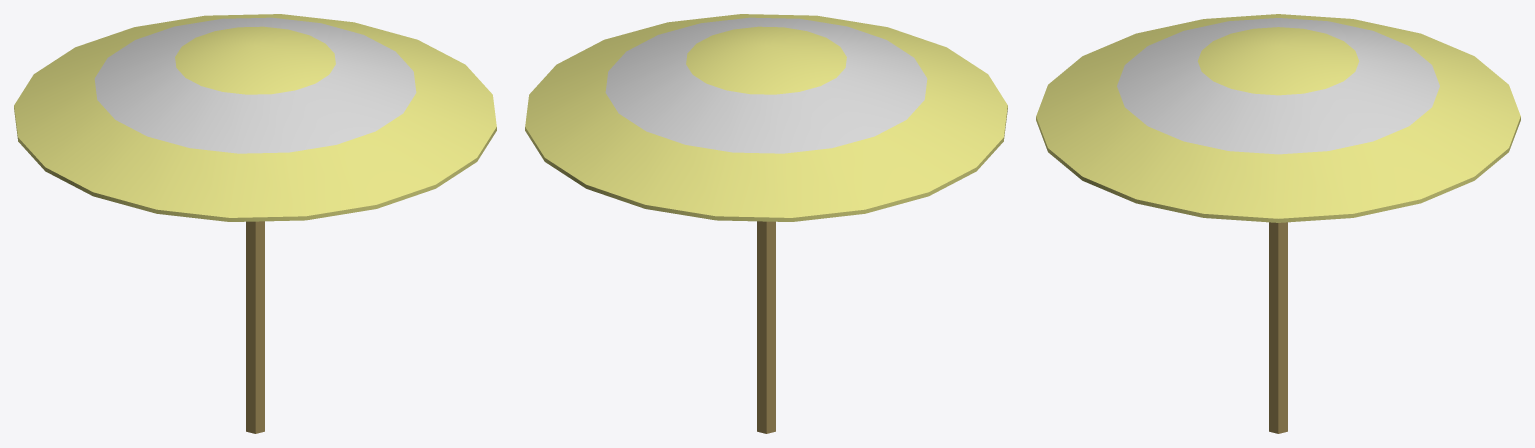
The model's file is YellowUmbrella.fbx.
The picture shows the model from 3 angles, left to right: view 1: azimuth 30°, elevation 25°; view 2: azimuth 150°, elevation 25°; view 3: azimuth 270°, elevation 25°; orthographic projection.
Parts seen in each view (by area): view 1: pCylinder86; view 2: pCylinder86; view 3: pCylinder86.
Boxes of the visible parts, left/top/right/bottom form: pCylinder86: left=14, top=14, right=496, bottom=433; pCylinder86: left=525, top=14, right=1007, bottom=433; pCylinder86: left=1036, top=14, right=1520, bottom=433.
Bounding box in the file's own units: 7.59 × 6.62 × 7.59.
